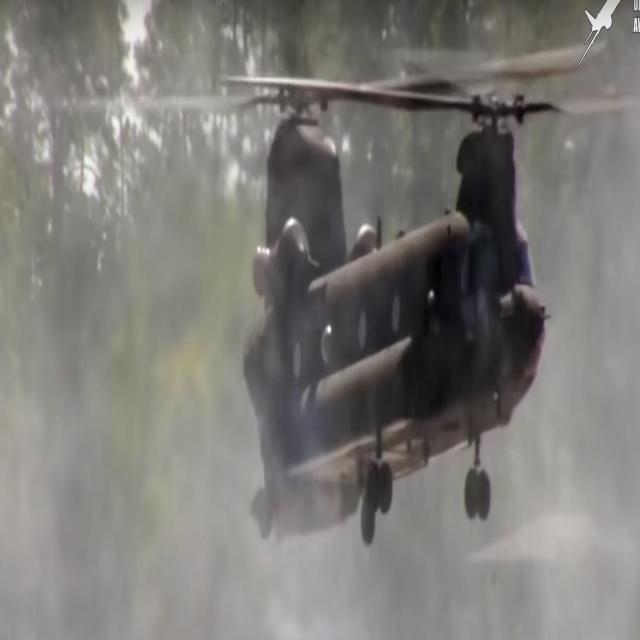Helicopter: (208, 17, 541, 524)
